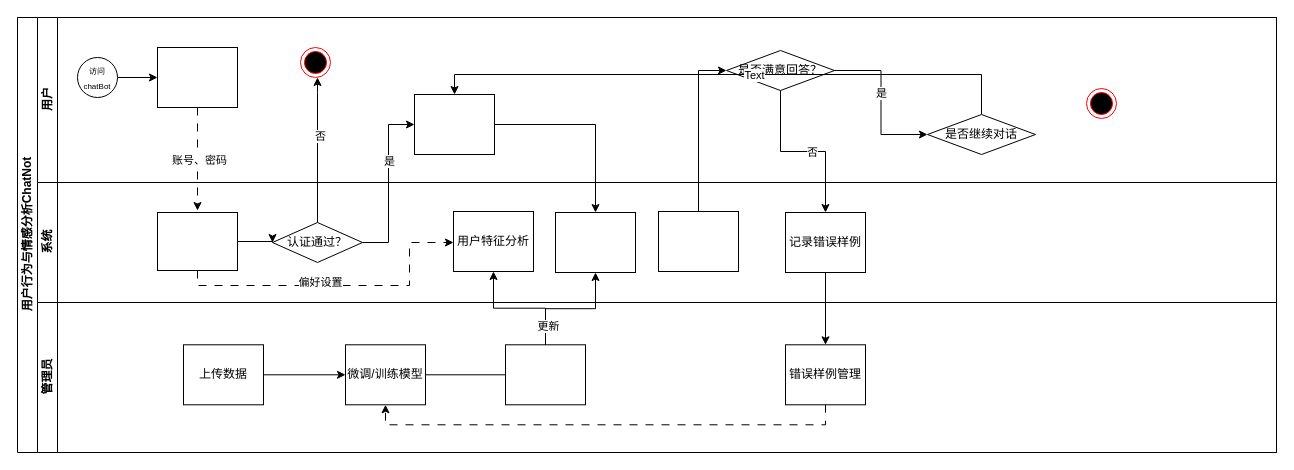
Image size: 1294x470. Some labels were removed from this diagram. Each missing label, with the centre of its shape:
开启对话: pixel 454 124
情感分析: pixel 595 242
数据存储: pixel 197 241
生成回答: pixel 698 241
用户注册/登录: pixel 197 77
管理模型: pixel 545 374
